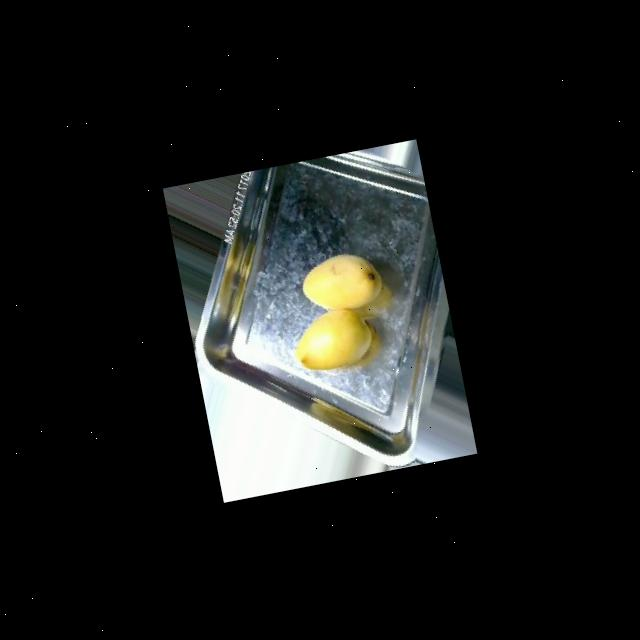Mango: (287, 303, 377, 375), (296, 247, 386, 316)
